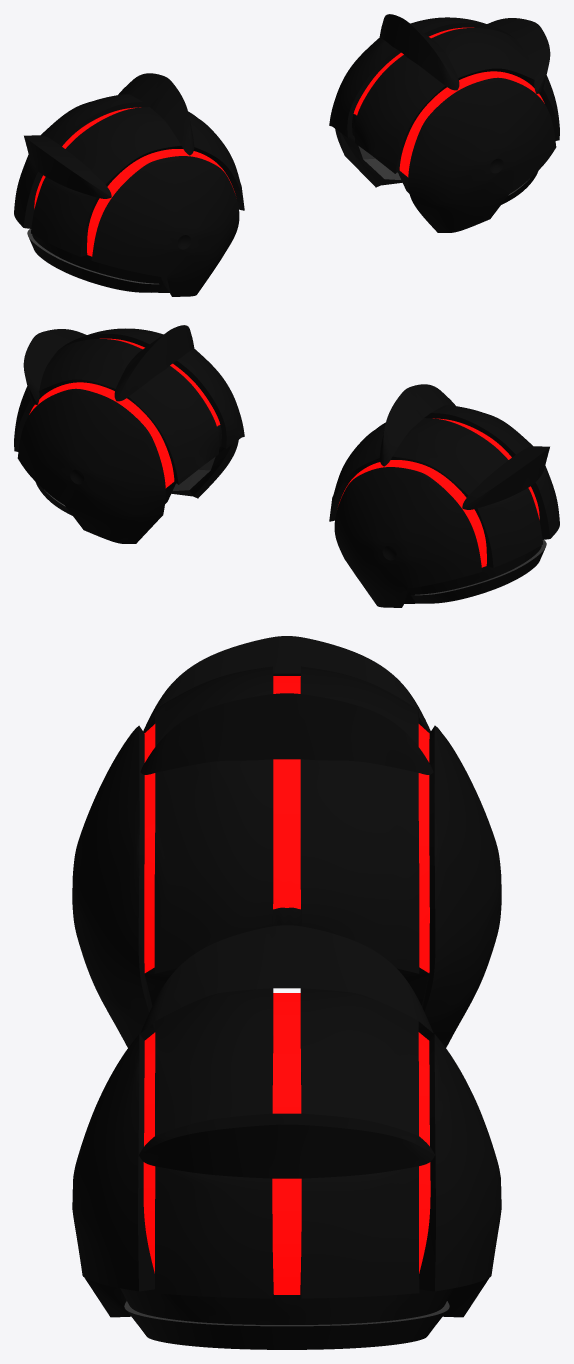
File: ArmPads.fbx
3 views of the same model, one above another, from view 1: azimuth 30°, elevation 25°; view 2: azimuth 150°, elevation 25°; view 3: azimuth 270°, elevation 25° (orthographic). The views are drawn at different scales.
Visible parts, largest first — view 1: 2782648e_CMDL.004, 2782648e_CMDL.002; view 2: 2782648e_CMDL.004, 2782648e_CMDL.002; view 3: 2782648e_CMDL.002, 2782648e_CMDL.004.
Boxes of the visible parts, <box> form: 2782648e_CMDL.004: <box>14,73,244,296</box>; 2782648e_CMDL.002: <box>329,14,559,232</box>; 2782648e_CMDL.004: <box>329,384,559,607</box>; 2782648e_CMDL.002: <box>14,325,244,543</box>; 2782648e_CMDL.002: <box>72,925,501,1349</box>; 2782648e_CMDL.004: <box>72,636,501,1047</box>.
Size of the model in its own units: 494 by 173 by 177.
